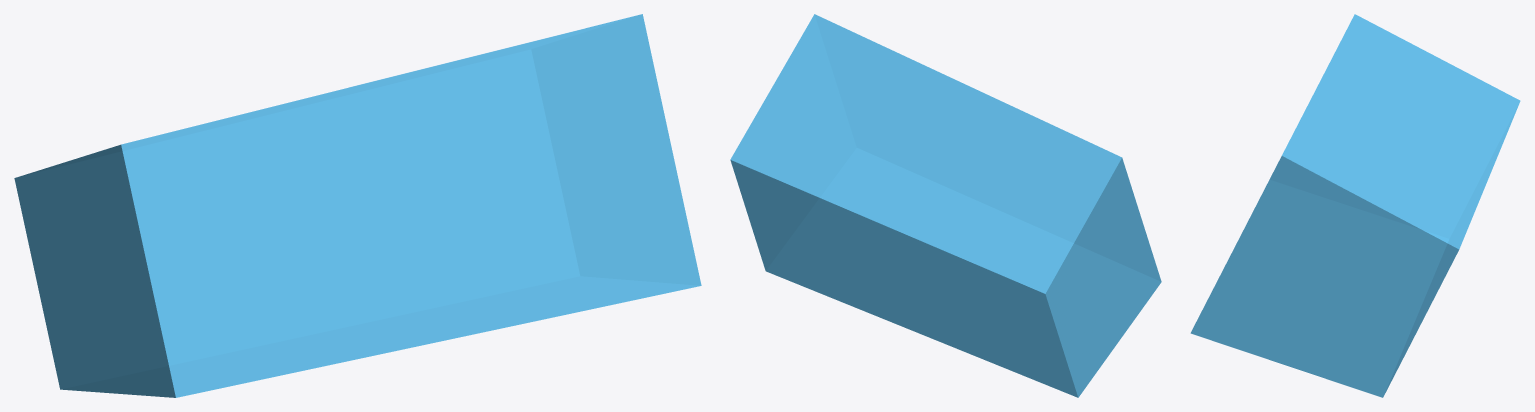
The model's file is Event_420107950_HErechit_59.fbx.
The picture shows the model from 3 angles, left to right: view 1: azimuth 30°, elevation 25°; view 2: azimuth 150°, elevation 25°; view 3: azimuth 270°, elevation 25°; orthographic projection. The views are drawn at different scales.
Parts seen in each view (by area): view 1: Model; view 2: Model; view 3: Model.
Boxes of the visible parts, left/top/right/bottom form: Model: left=14, top=14, right=701, bottom=397; Model: left=730, top=14, right=1161, bottom=397; Model: left=1190, top=14, right=1520, bottom=397.
Size of the model in its own units: 0.8121 by 0.5508 by 0.6264.
